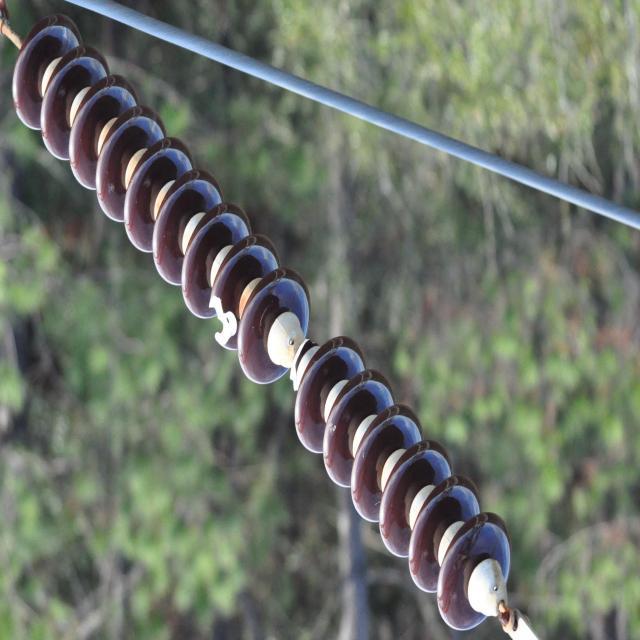broken: (206, 286, 237, 350), (285, 334, 310, 383)
insulator: (11, 13, 511, 624)
